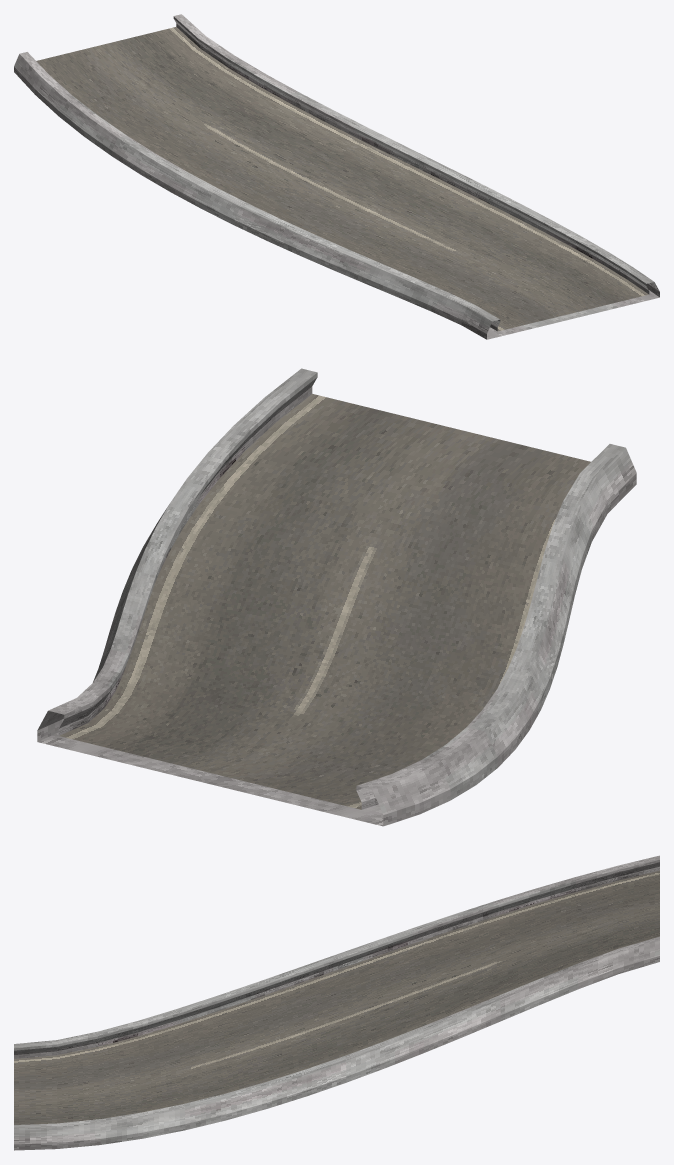
The model's file is road-Chicane-Flat-BiSlopeUp-Up2-Left1-Size3.glb.
3 views of the same model, one above another, from view 1: azimuth 30°, elevation 25°; view 2: azimuth 150°, elevation 25°; view 3: azimuth 270°, elevation 25° (orthographic). The views are drawn at different scales.
Parts seen in each view (by area): view 1: road-Chicane-Flat-BiSlopeUp-Up2-Left1-Size3; view 2: road-Chicane-Flat-BiSlopeUp-Up2-Left1-Size3; view 3: road-Chicane-Flat-BiSlopeUp-Up2-Left1-Size3.
Boxes of the visible parts, bbox=[...] form: road-Chicane-Flat-BiSlopeUp-Up2-Left1-Size3: bbox=[14, 14, 659, 339]; road-Chicane-Flat-BiSlopeUp-Up2-Left1-Size3: bbox=[37, 368, 636, 826]; road-Chicane-Flat-BiSlopeUp-Up2-Left1-Size3: bbox=[14, 855, 659, 1150].
Bounding box in the file's own units: 2 × 0.5938 × 3.
2 materials, 2 textured.
